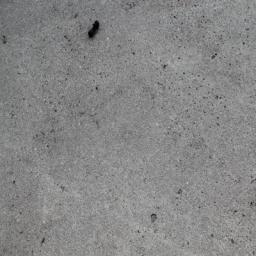FOD: (87, 21, 104, 40)
